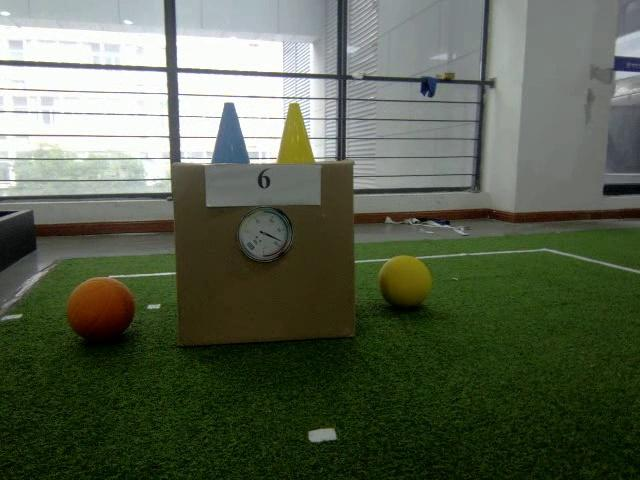6: (256, 165, 272, 190)
Dashboard: (237, 207, 296, 264)
blue_barrel: (204, 99, 252, 164)
orange_ball: (65, 275, 136, 342)
ssi: (246, 241, 256, 250)
yellow_ball: (376, 255, 431, 309)
yellow_barrel: (269, 102, 321, 165)
